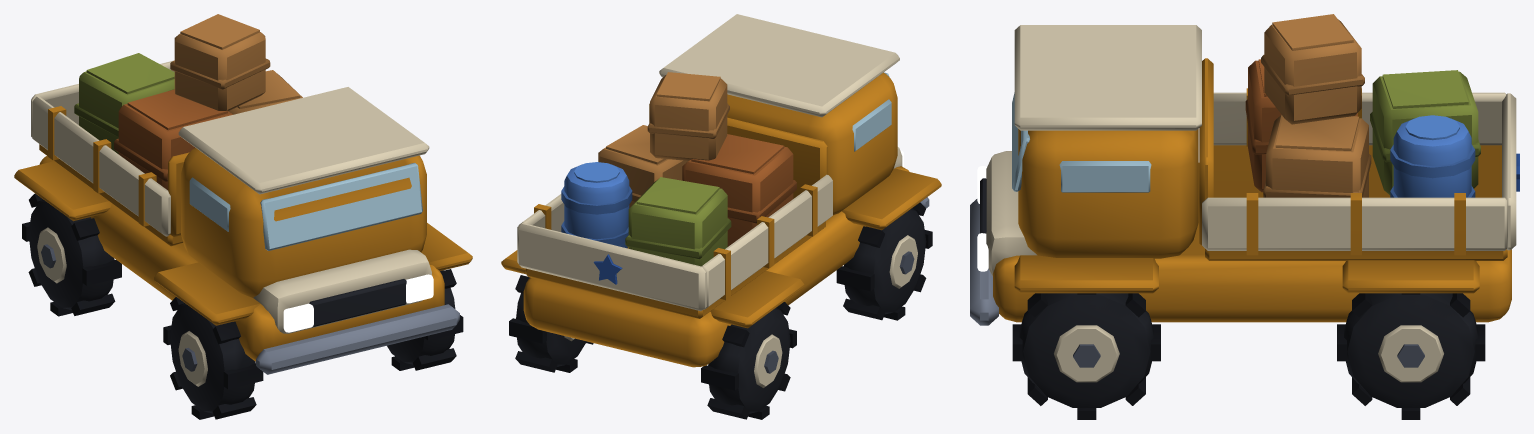
File: o_truck.glb
The picture shows the model from 3 angles, left to right: view 1: azimuth 30°, elevation 25°; view 2: azimuth 150°, elevation 25°; view 3: azimuth 270°, elevation 25°; orthographic projection. The views are drawn at different scales.
Visible parts, largest first — view 1: body, wheel_bl, wheel_fl, wheel_fr, lamp_glow; view 2: body, wheel_bl, wheel_fl, wheel_br; view 3: body, wheel_br, wheel_fr, lamp_glow.
Boxes of the visible parts, <box> form: body: <box>14,14,472,374</box>; wheel_bl: <box>22,193,121,316</box>; wheel_fl: <box>163,297,263,419</box>; wheel_fr: <box>387,269,463,370</box>; lamp_glow: <box>283,274,433,332</box>; body: <box>501,14,941,367</box>; wheel_bl: <box>701,302,796,419</box>; wheel_fl: <box>836,202,932,320</box>; wheel_br: <box>509,275,593,372</box>; body: <box>970,14,1519,325</box>; wheel_br: <box>1337,293,1485,419</box>; wheel_fr: <box>1012,293,1160,419</box>; lamp_glow: <box>977,166,988,271</box>.
Bounding box in the file's own units: 2.4 × 2.5 × 3.82.
